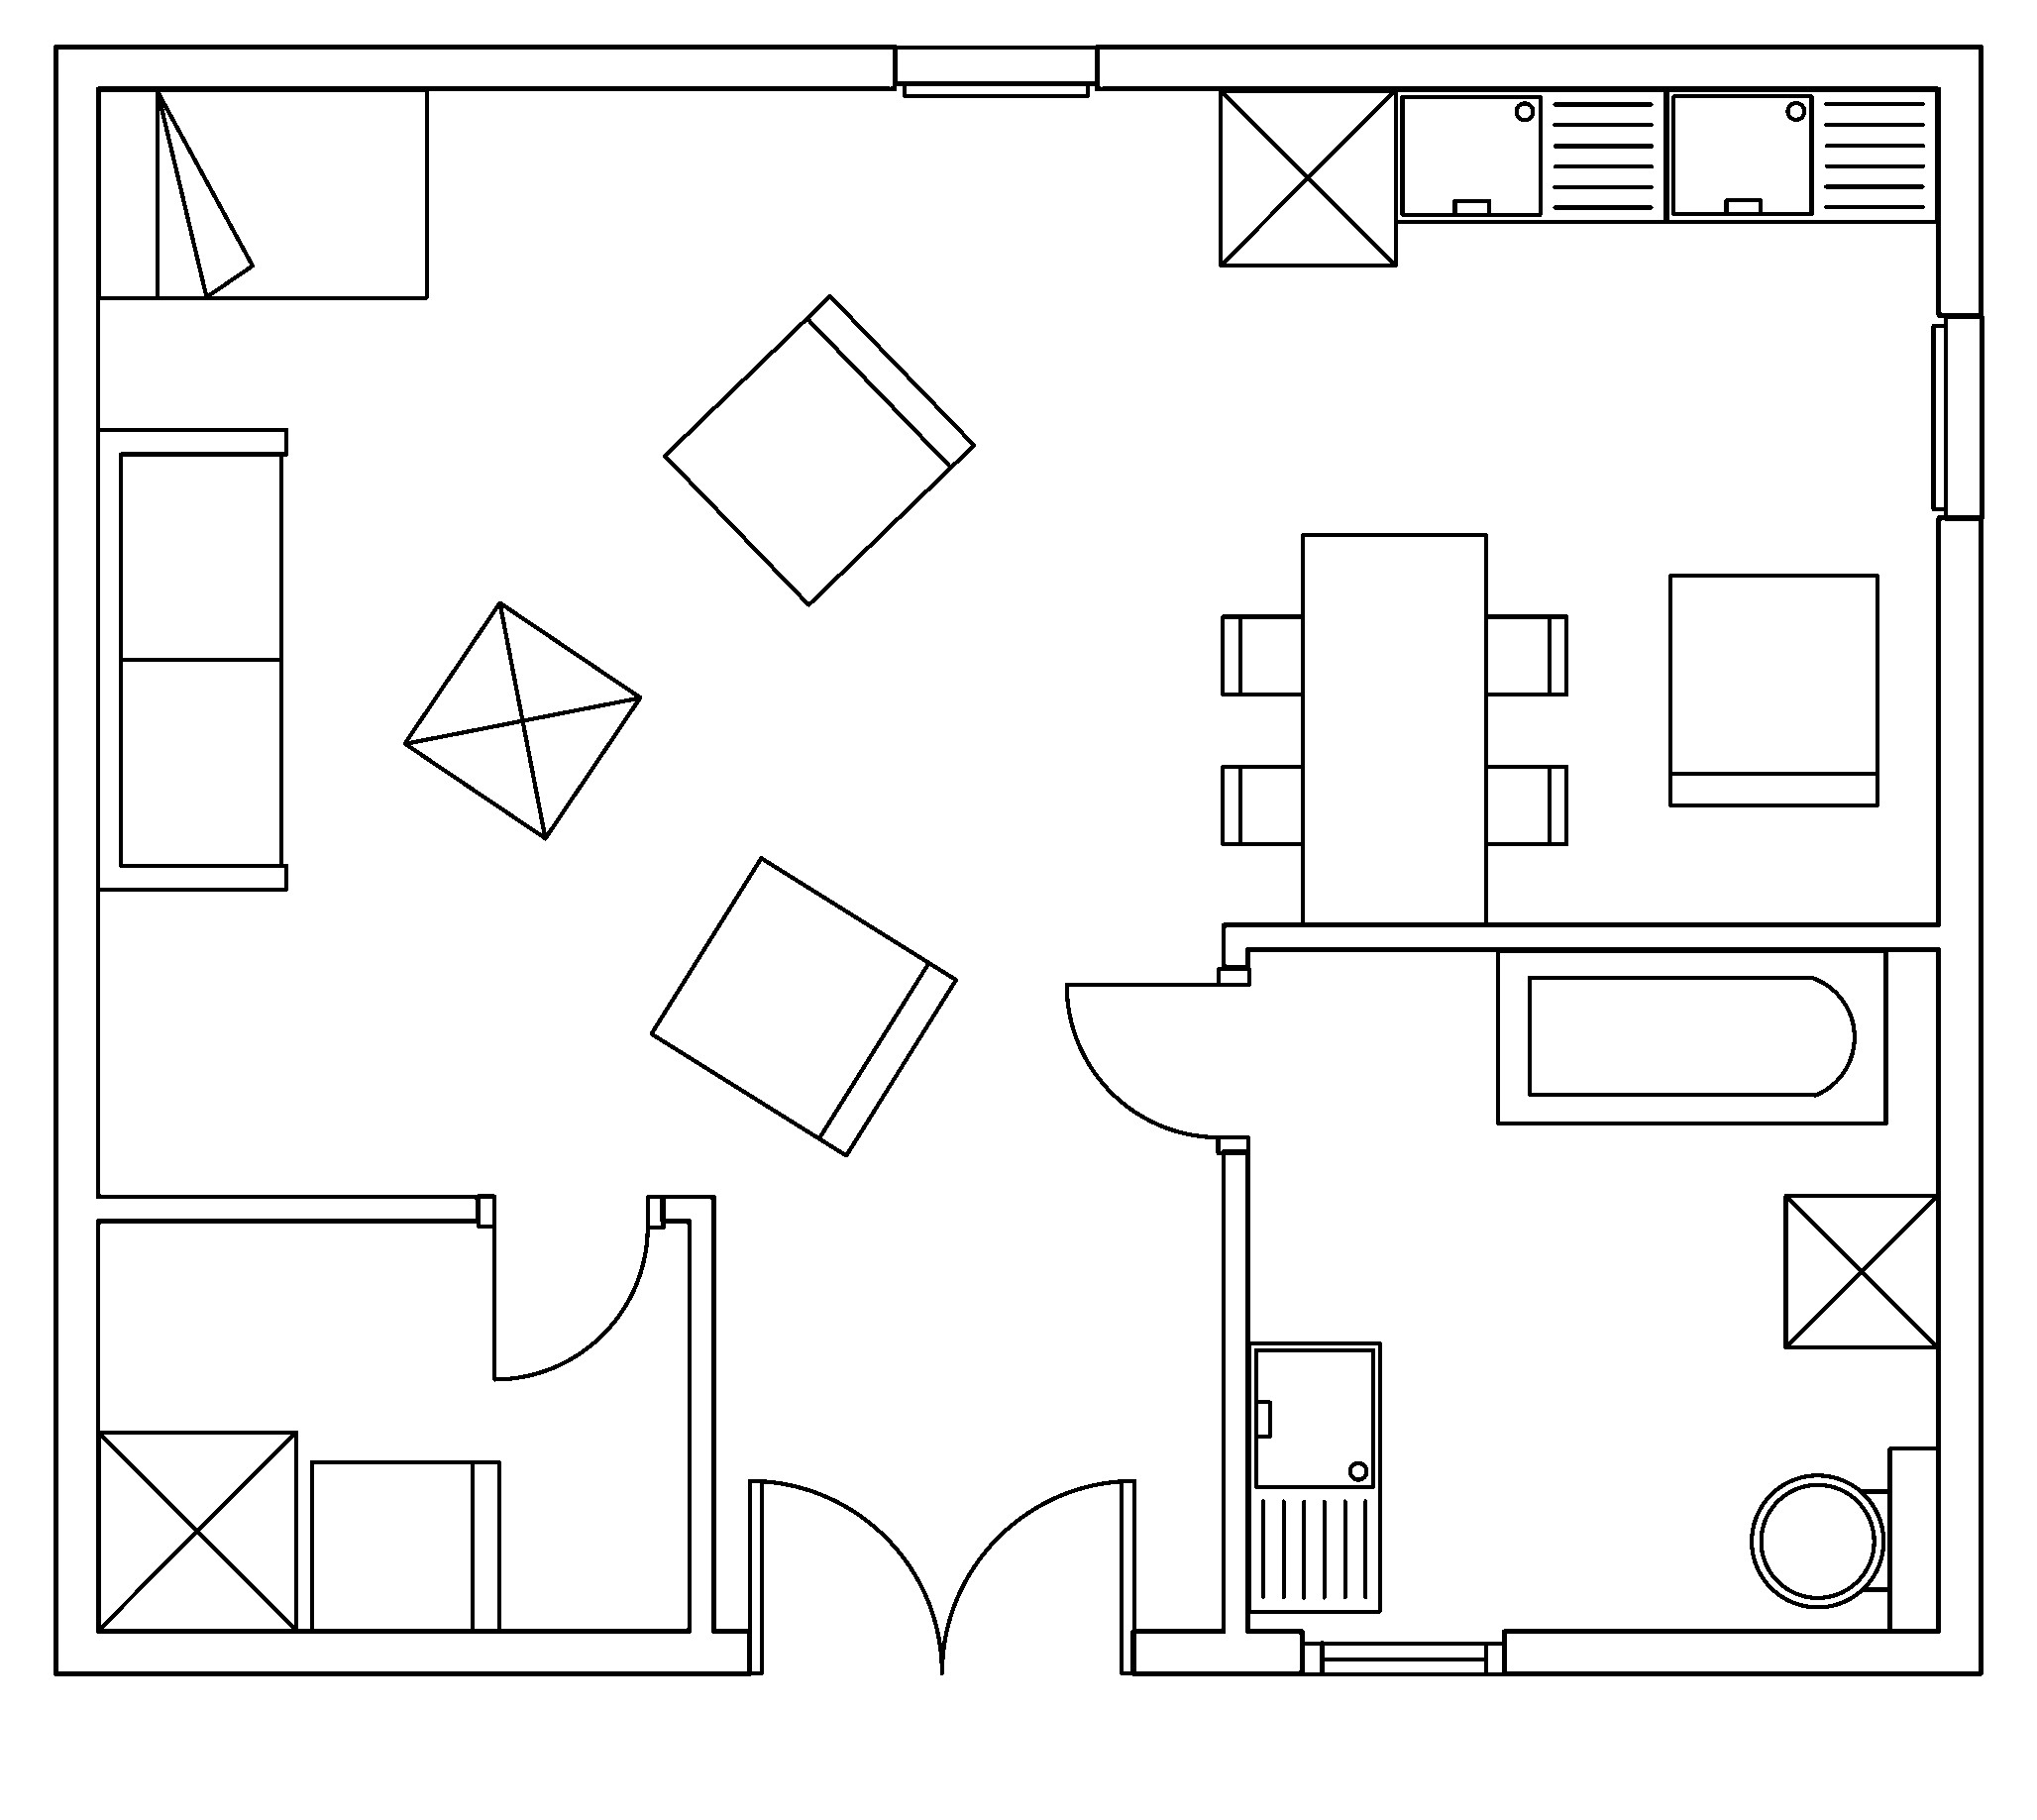bed: (95, 86, 428, 300)
coffee_table: (402, 599, 643, 841), (95, 1428, 299, 1632), (1217, 86, 1398, 267), (1781, 1191, 1940, 1349)
dining_table: (1219, 531, 1568, 926)
large_sink: (1749, 1444, 1940, 1632)
large_sofa: (95, 427, 288, 892)
sink: (1663, 86, 1940, 223), (1245, 1339, 1382, 1614), (1393, 86, 1668, 223)
small_sofa: (660, 292, 976, 608), (646, 854, 959, 1158), (1666, 571, 1879, 808), (307, 1458, 500, 1632)
tub: (1494, 947, 1888, 1126)
